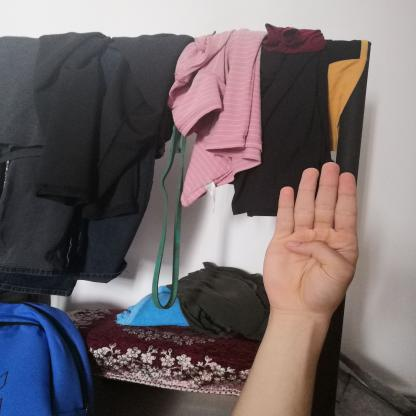KAAF: (253, 154, 369, 320)
